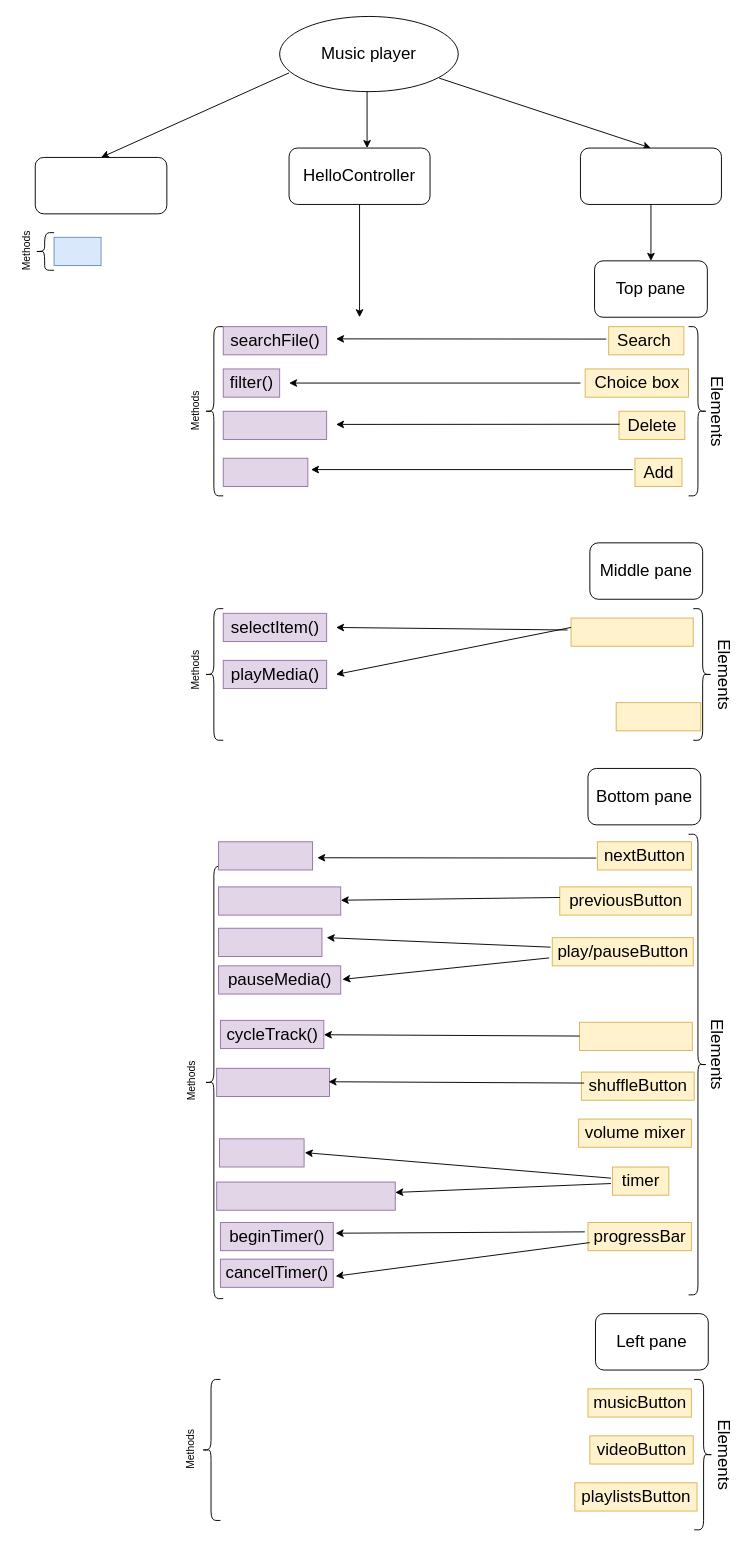
This 754x1546 diagram has some shape labels left out. The centre of each missing label's shape, as x and y in pixels:
"addFile()" belongs at point 265,471.
"bindcurrentTimelable()" belongs at point 305,1195.
"deleteFile()" belongs at point 274,424.
"directoryLister" belongs at point 631,631.
"Fxml file" belongs at point 650,175.
"getTime()" belongs at point 261,1152.
"HelloApplication" belongs at point 100,185.
"playNext()" belongs at point 265,855.
"playPause()" belongs at point 270,941.
"playprevious()" belongs at point 279,900.
"repeatButton" belongs at point 635,1035.
"Scrollbar" belongs at point 658,716.
"shuffleTrack()" belongs at point 272,1082.
"Start" belongs at point 77,251.
